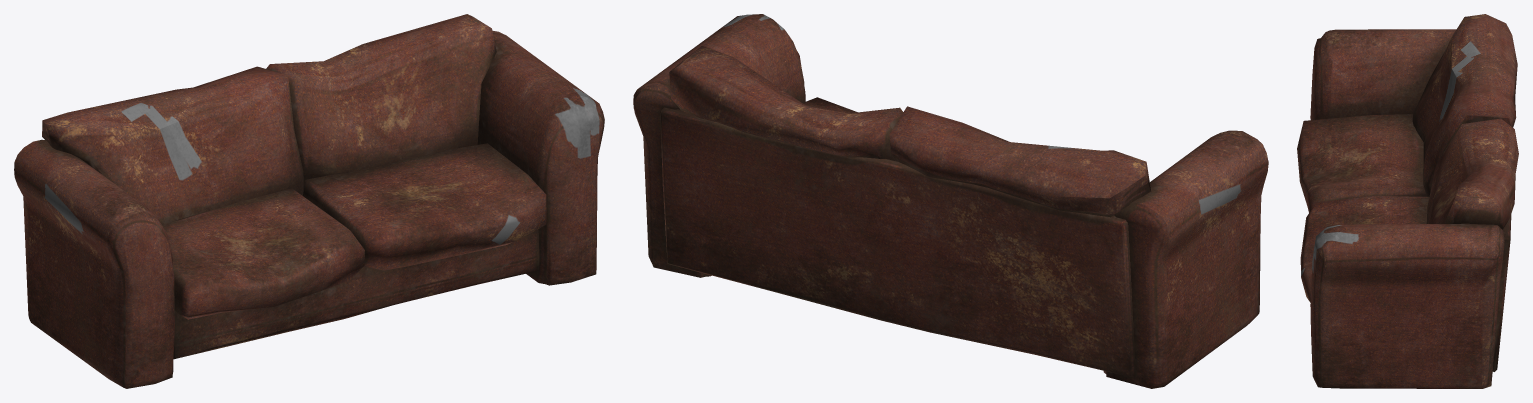
The model's file is couch.glb.
3 renders of one model, left to right at view 1: azimuth 30°, elevation 25°; view 2: azimuth 150°, elevation 25°; view 3: azimuth 270°, elevation 25°, orthographic. The views are drawn at different scales.
Parts seen in each view (by area): view 1: Arm_Rests_low, Back_Cushions_L_low, Back_Cushions_R_low, Butt_Cushions_R_low, Butt_Cushions_L_low, Seat_low; view 2: Back_low, Arm_Rests_low, Back_Cushions_L_low, Back_Cushions_R_low; view 3: Arm_Rests_low, Butt_Cushions_L_low, Back_Cushions_L_low, Back_Cushions_R_low, Butt_Cushions_R_low, Back_low.
Part boxes in pixels (<box>): Arm_Rests_low: <box>14,30,604,388</box>; Back_Cushions_L_low: <box>42,66,303,224</box>; Back_Cushions_R_low: <box>266,14,496,184</box>; Butt_Cushions_R_low: <box>303,143,546,270</box>; Butt_Cushions_L_low: <box>162,188,364,319</box>; Seat_low: <box>173,229,539,359</box>; Back_low: <box>660,107,1135,377</box>; Arm_Rests_low: <box>633,14,1268,388</box>; Back_Cushions_L_low: <box>889,106,1150,217</box>; Back_Cushions_R_low: <box>669,46,903,160</box>; Arm_Rests_low: <box>1310,29,1504,388</box>; Butt_Cushions_L_low: <box>1297,114,1426,212</box>; Back_Cushions_L_low: <box>1412,14,1517,196</box>; Back_Cushions_R_low: <box>1426,118,1518,229</box>; Butt_Cushions_R_low: <box>1300,196,1429,302</box>; Back_low: <box>1492,214,1511,371</box>.
Size of the model in its own units: 236 by 90.48 by 102.
1 material, 1 textured.
